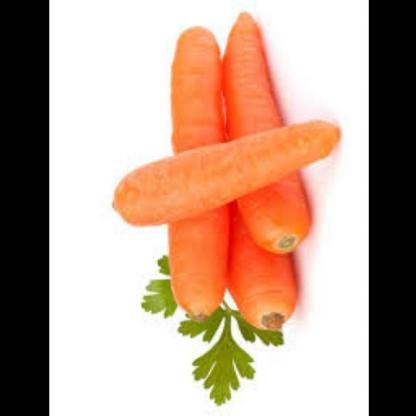carrot: (101, 104, 360, 239), (220, 24, 299, 330), (161, 20, 236, 337), (217, 6, 310, 250)
